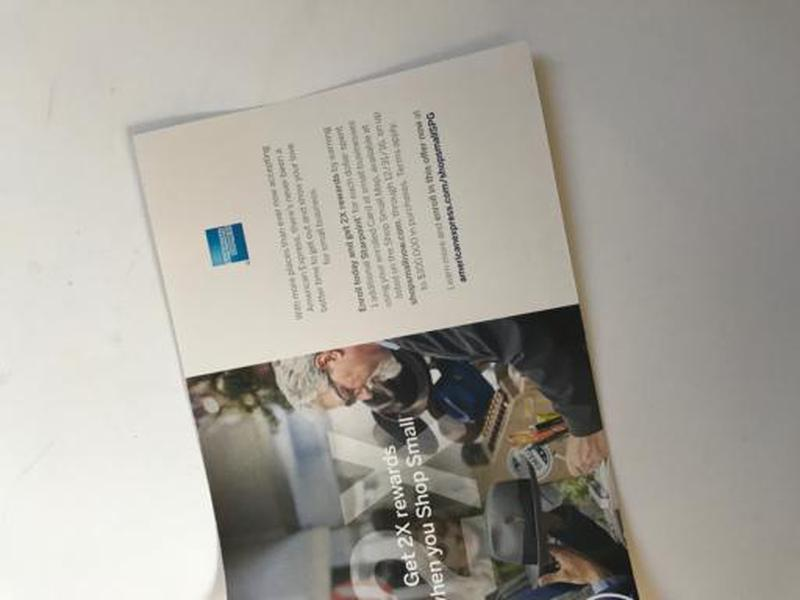paper: (126, 35, 646, 600)
